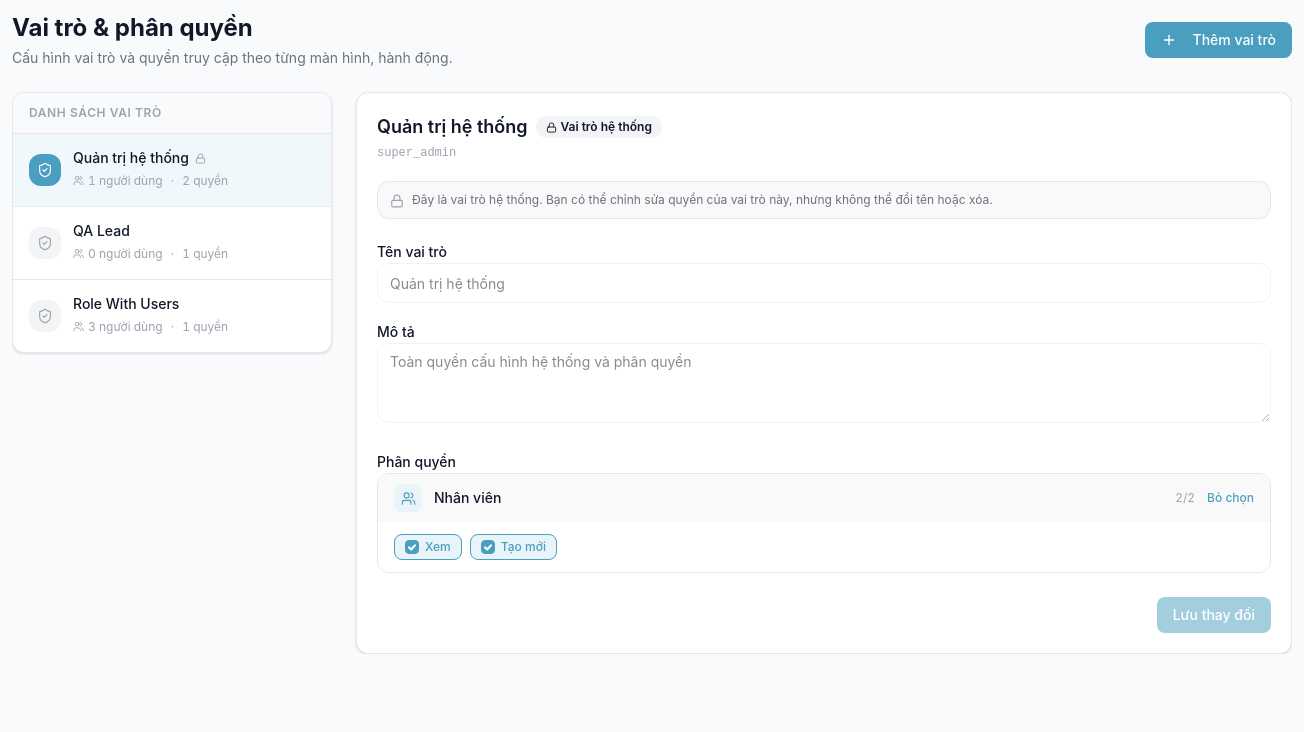
RolesPage › enables Save only after a change is made
Click the text "QA Lead" at (101, 231), box [73,221,130,241]
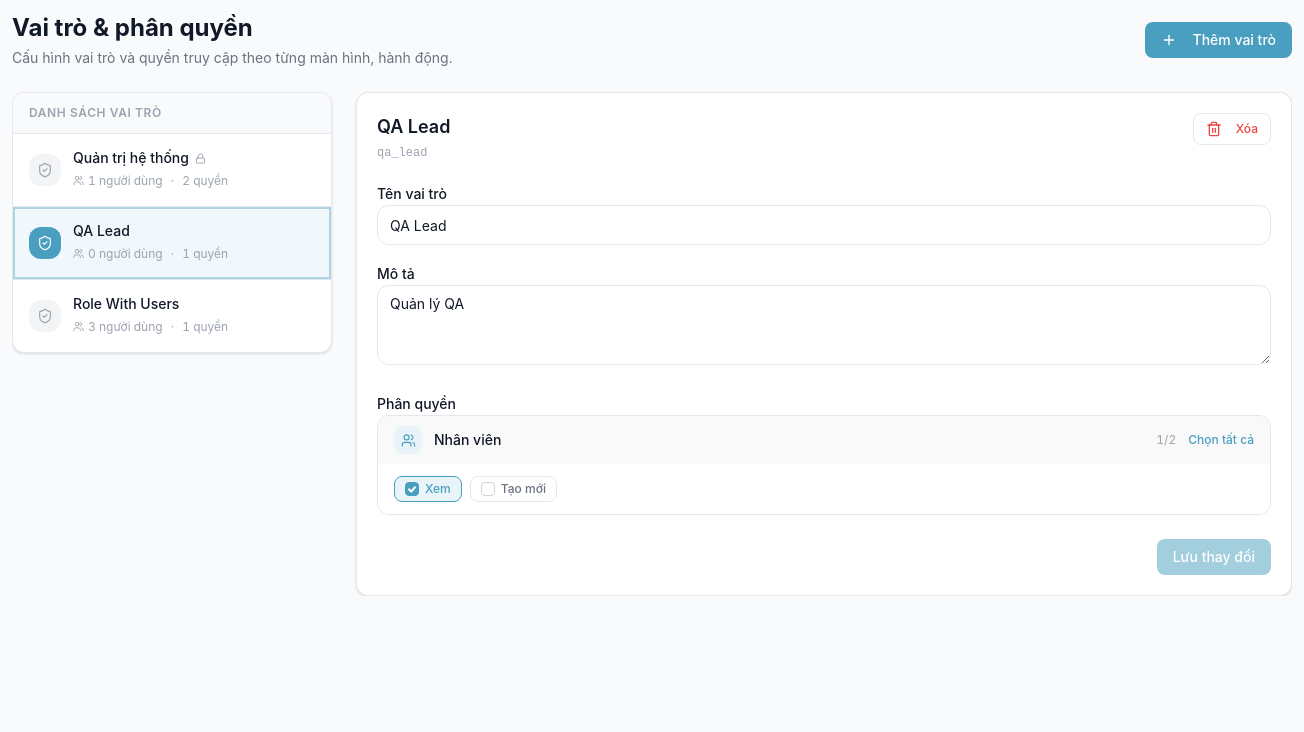
Expected: the button "Lưu thay đổi" is disabled, [1157,539,1271,575]
Note: Toggle a permission → becomes dirty → Save enabled.
Click the checkbox named "Nhân viên — Tạo mới" at (513, 489), box [470,476,557,502]
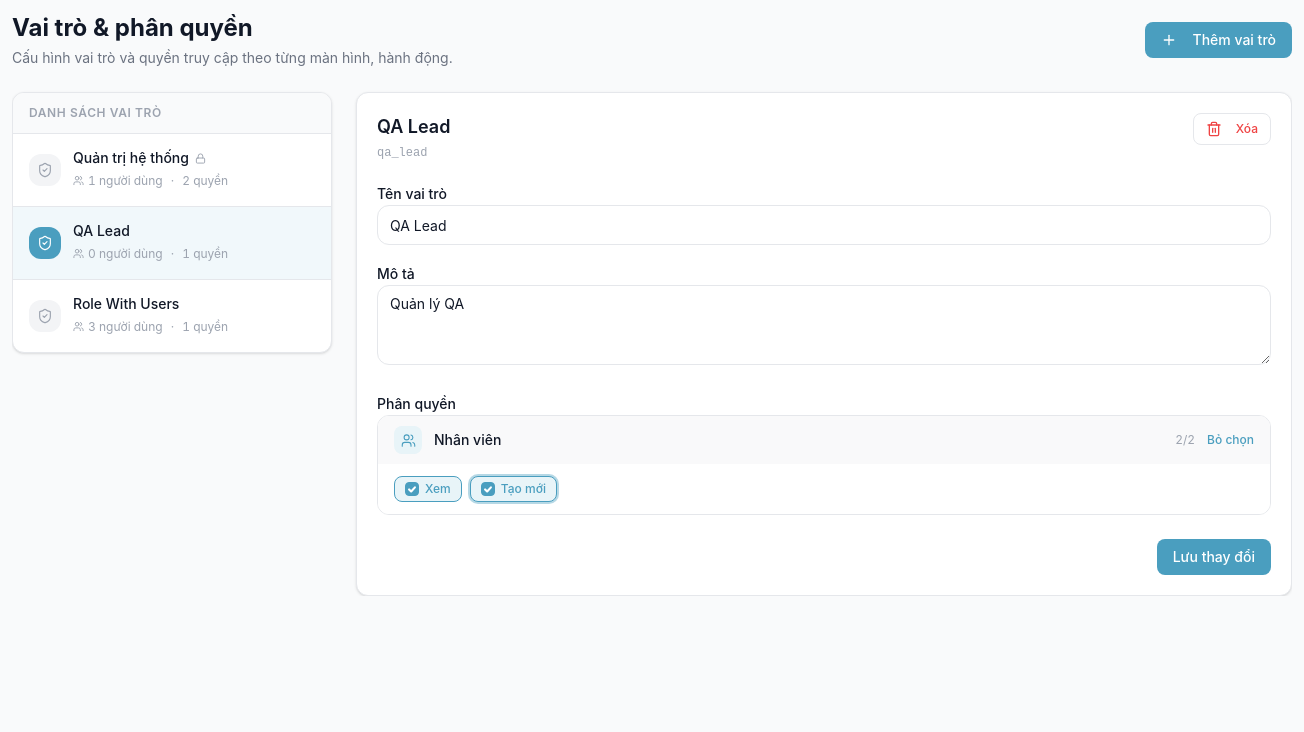
Expected: the button "Lưu thay đổi" is enabled, [1157,539,1271,575]
